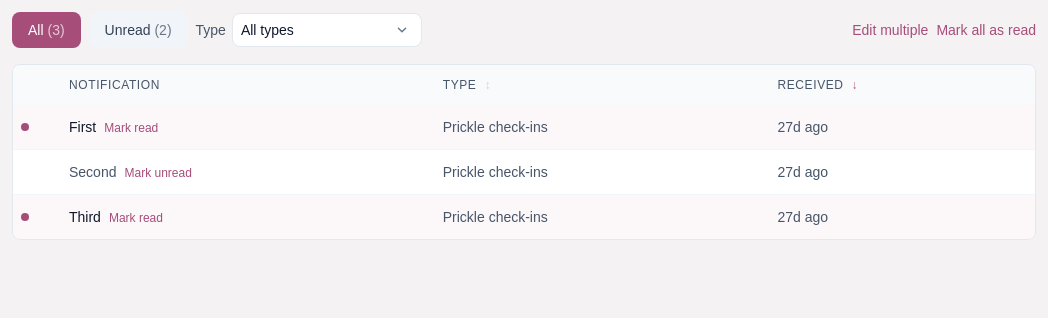
NotificationInbox › hides the checkboxes until Edit multiple, and Done hides them and drops the selection
Click the button "Edit multiple": click(890, 30) x1=852 y1=20 x2=928 y2=40
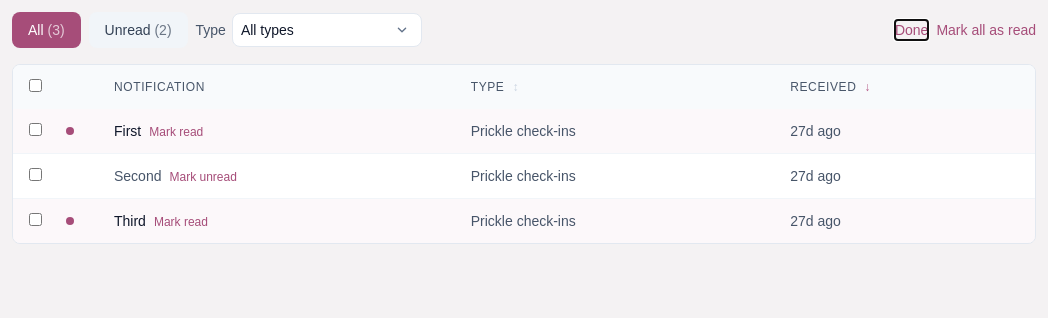
Expected: the number of checkboxes is 4
Click the checkbox named "Select: First": click(36, 130) x1=29 y1=123 x2=42 y2=136
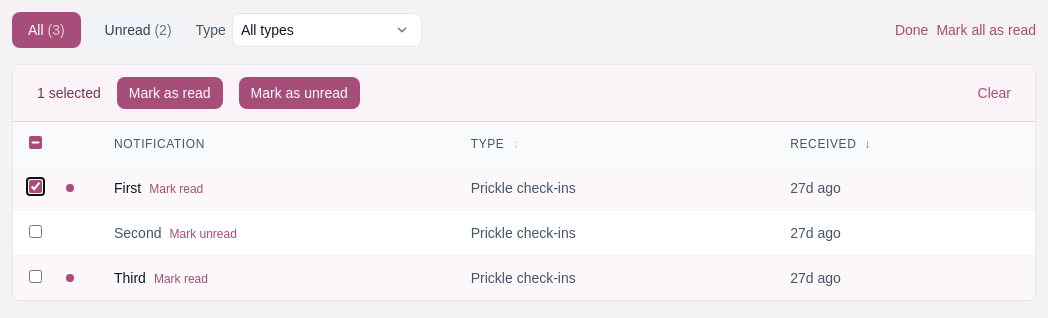
Expected: the element named "Bulk actions" is shown, x1=13 y1=65 x2=1035 y2=122
Click the button "Done": click(912, 30) x1=895 y1=20 x2=928 y2=40
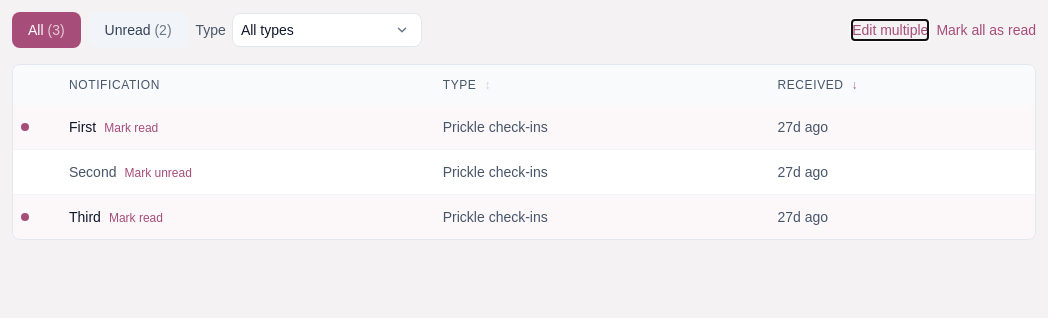
Expected: the checkbox is gone
Click the button "Edit multiple": click(890, 30) x1=852 y1=20 x2=928 y2=40
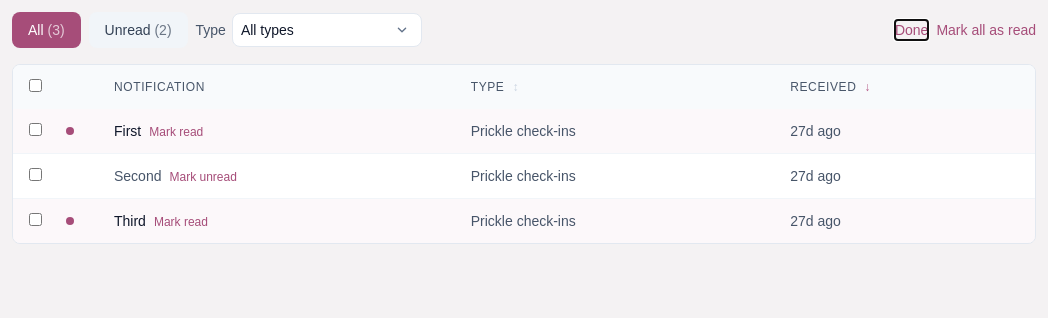
Expected: the checkbox named "Select: First" is not checked, x1=29 y1=123 x2=42 y2=136
